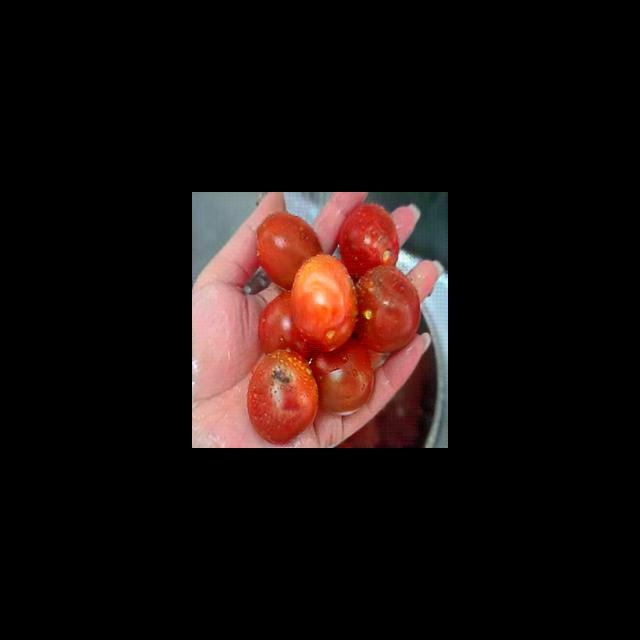tomato: (246, 350, 320, 444), (291, 255, 357, 353), (352, 267, 422, 356), (342, 206, 401, 272)
